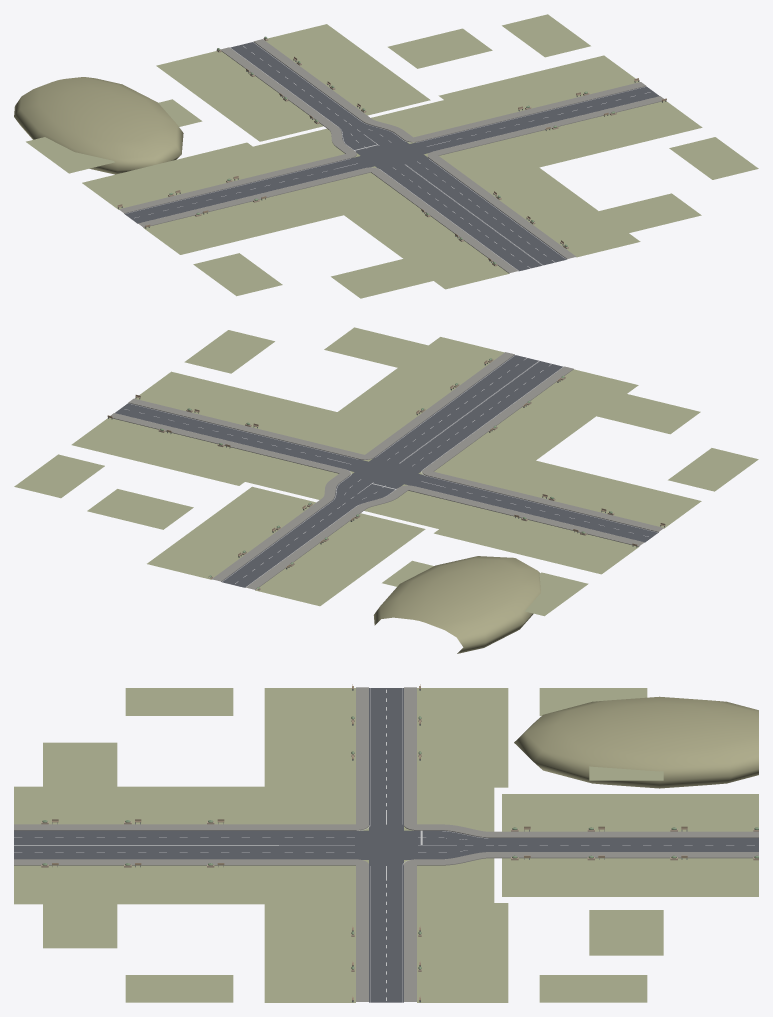
The picture shows the model from 3 angles, top to bottom: view 1: azimuth 30°, elevation 25°; view 2: azimuth 150°, elevation 25°; view 3: azimuth 270°, elevation 25°; orthographic projection. The views are drawn at different scales.
Visible parts, largest first — view 1: static; view 2: static; view 3: static.
Boxes of the visible parts, box(x1,y1,x2,y2) form: static: box(14, 14, 758, 298); static: box(14, 327, 758, 653); static: box(14, 684, 758, 1002).
Size of what is drawn, in the model's own units: 180 by 14.08 by 180.
